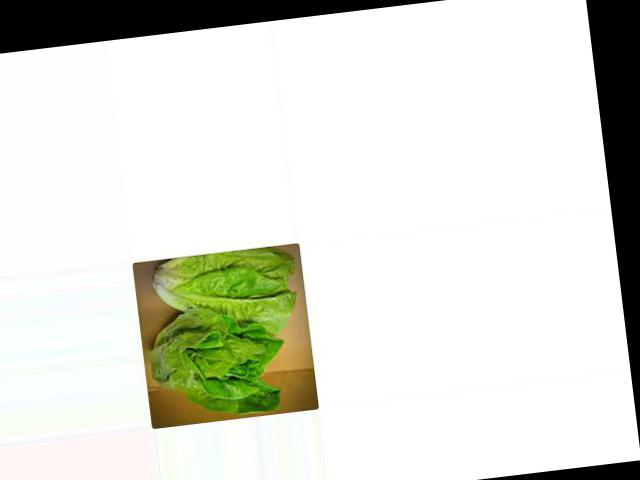lettuce: (145, 245, 307, 411)
